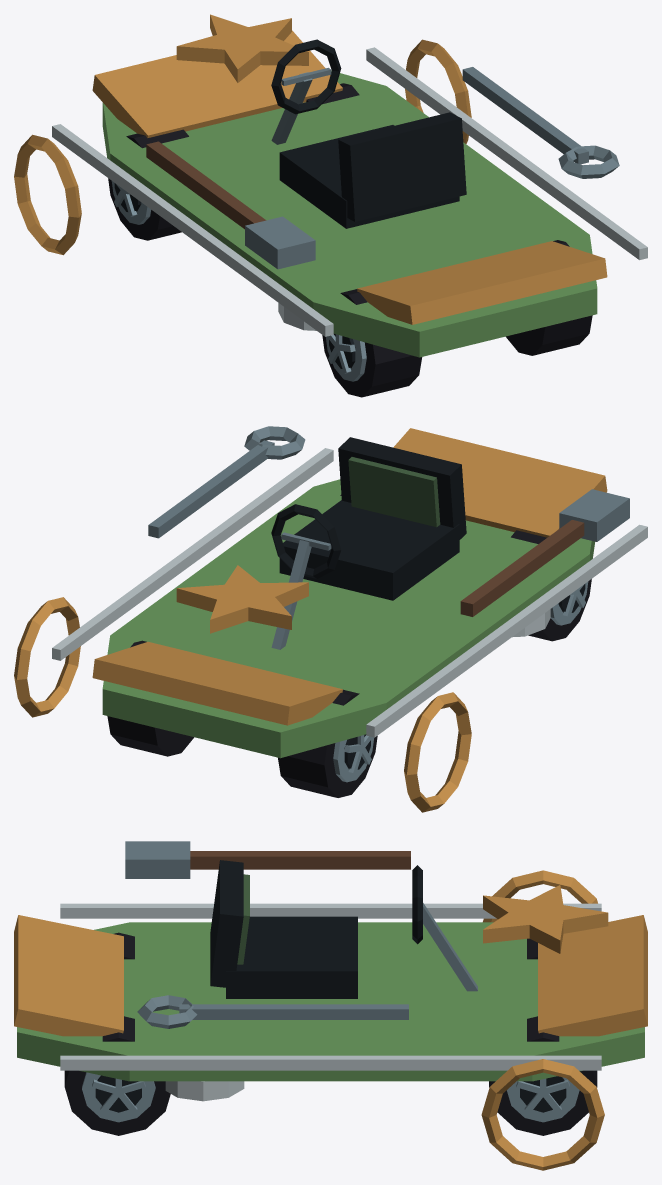
File: kart.glb
3 renders of one model, top to bottom at view 1: azimuth 30°, elevation 25°; view 2: azimuth 150°, elevation 25°; view 3: azimuth 270°, elevation 25°, orthographic.
Parts seen in each view (by area): view 1: identity-hoverboard-hoverboard-turned-up-deck, identity-hoverboard-driver-cockpit, identity-hoverboard-motif-neon, identity-hoverboard-motif-tools, identity-hoverboard-motif-star, wheel-rear-left, wheel-front-left, wheel-rear-right; view 2: identity-hoverboard-hoverboard-turned-up-deck, identity-hoverboard-driver-cockpit, identity-hoverboard-motif-neon, identity-hoverboard-motif-tools, identity-hoverboard-motif-star, wheel-front-left, wheel-front-right, wheel-rear-left; view 3: identity-hoverboard-hoverboard-turned-up-deck, identity-hoverboard-motif-neon, identity-hoverboard-driver-cockpit, identity-hoverboard-motif-tools, wheel-rear-right, identity-hoverboard-motif-star, wheel-front-right.
Part boxes in pixels (x1=…): identity-hoverboard-hoverboard-turned-up-deck: x1=92, y1=30, x2=607, y2=357; identity-hoverboard-driver-cockpit: x1=271, y1=39, x2=466, y2=228; identity-hoverboard-motif-neon: x1=14, y1=39, x2=647, y2=336; identity-hoverboard-motif-tools: x1=146, y1=67, x2=619, y2=269; identity-hoverboard-motif-star: x1=176, y1=14, x2=308, y2=82; wheel-rear-left: x1=322, y1=289, x2=422, y2=397; wheel-front-left: x1=108, y1=129, x2=188, y2=240; wheel-rear-right: x1=506, y1=240, x2=592, y2=355; identity-hoverboard-hoverboard-turned-up-deck: x1=92, y1=428, x2=607, y2=758; identity-hoverboard-driver-cockpit: x1=271, y1=437, x2=466, y2=649; identity-hoverboard-motif-neon: x1=14, y1=448, x2=647, y2=812; identity-hoverboard-motif-tools: x1=148, y1=426, x2=629, y2=616; identity-hoverboard-motif-star: x1=176, y1=565, x2=308, y2=633; wheel-front-left: x1=278, y1=689, x2=377, y2=797; wheel-front-right: x1=107, y1=640, x2=193, y2=756; wheel-rear-left: x1=511, y1=530, x2=591, y2=641; identity-hoverboard-hoverboard-turned-up-deck: x1=14, y1=915, x2=647, y2=1101; identity-hoverboard-motif-neon: x1=60, y1=870, x2=604, y2=1170; identity-hoverboard-driver-cockpit: x1=210, y1=860, x2=477, y2=998; identity-hoverboard-motif-tools: x1=125, y1=841, x2=410, y2=1028; wheel-rear-right: x1=64, y1=1016, x2=170, y2=1135; identity-hoverboard-motif-star: x1=483, y1=885, x2=608, y2=953; wheel-front-right: x1=489, y1=1016, x2=597, y2=1135.
Size of the model in its own units: 2.13 by 1.09 by 2.93.
